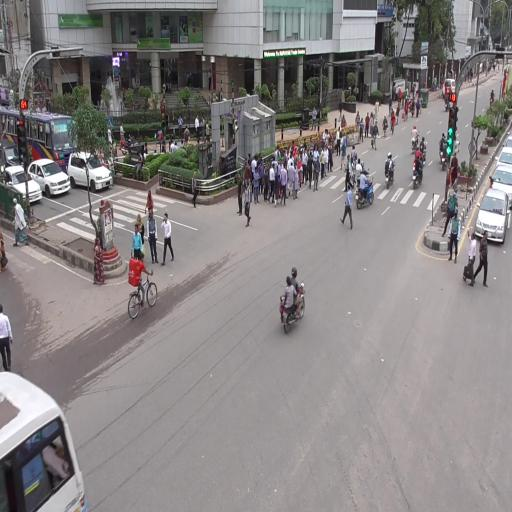bicycle: (128, 276, 160, 320)
car: (472, 185, 512, 247), (26, 158, 75, 201)
motorbike: (279, 267, 309, 341), (354, 174, 378, 214), (410, 152, 426, 192), (384, 158, 398, 191)
suv: (69, 147, 115, 197)
